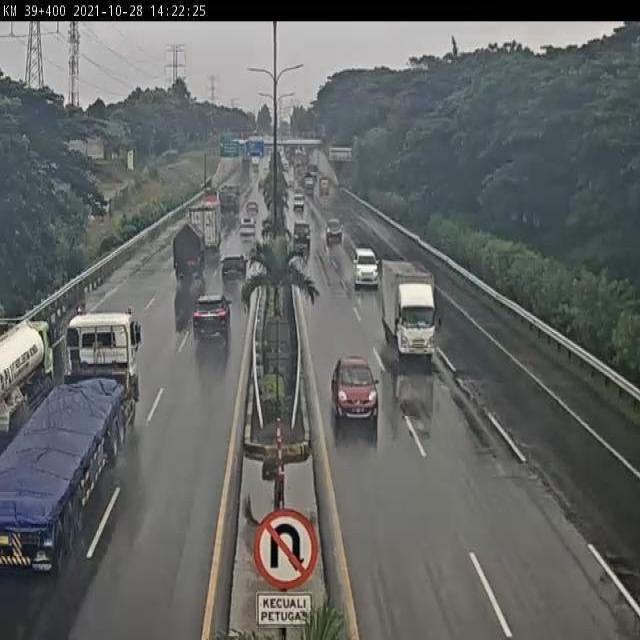car: (330, 355, 377, 424), (192, 291, 231, 343), (350, 248, 379, 288), (219, 251, 247, 287), (292, 219, 313, 249), (238, 213, 258, 240), (326, 218, 344, 246)
truck: (0, 309, 143, 568), (380, 260, 437, 365), (0, 317, 55, 423), (182, 203, 221, 261), (173, 224, 208, 281)
